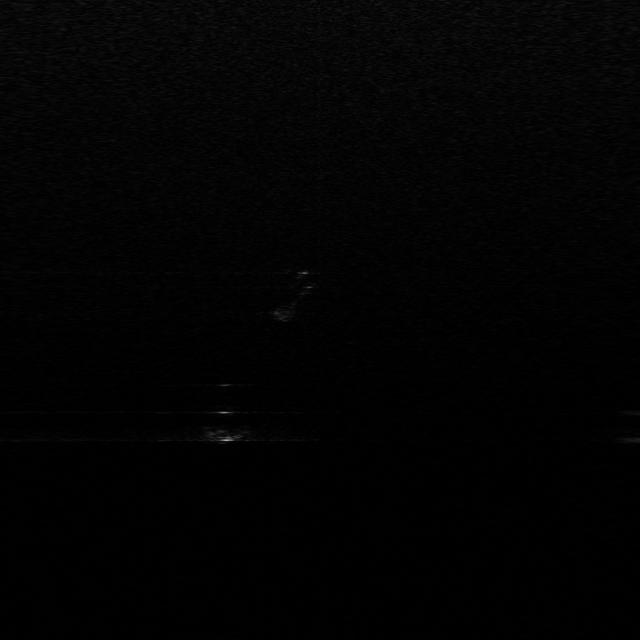ball: (197, 404, 256, 443)
tyre: (276, 271, 314, 323)
